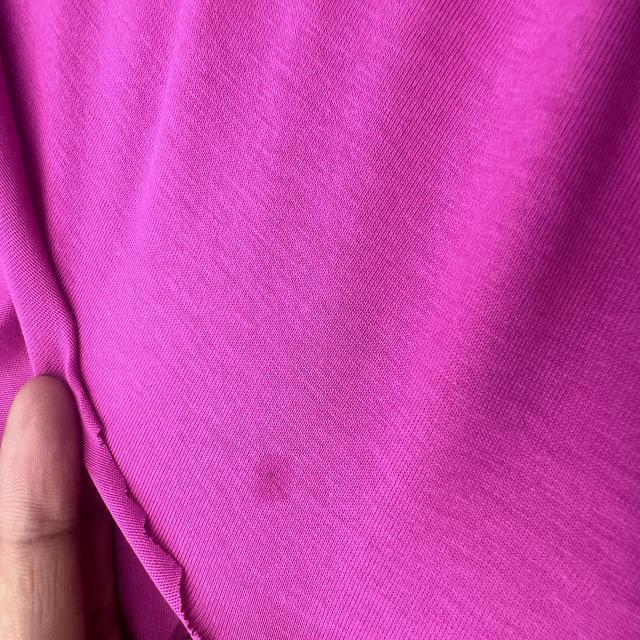Thread_other: (201, 410, 347, 538)
